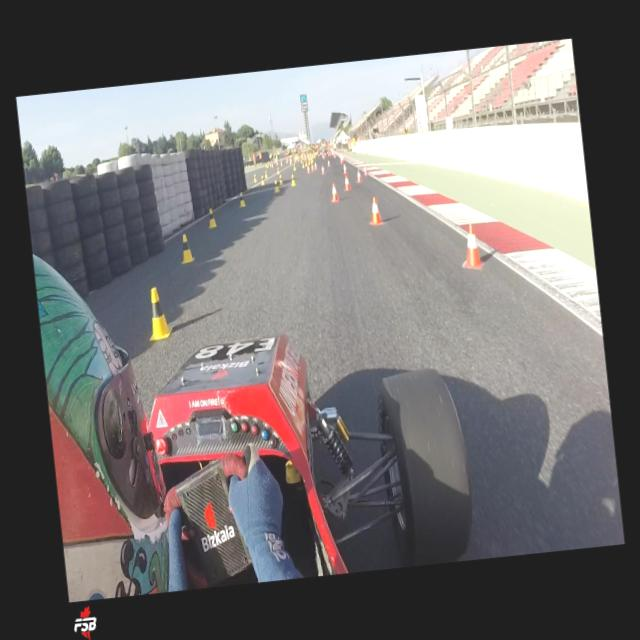orange_cone: (458, 222, 483, 270), (366, 196, 384, 225), (329, 182, 338, 202), (342, 173, 350, 191), (356, 168, 362, 182), (342, 162, 347, 175), (363, 164, 368, 176), (320, 164, 324, 174), (306, 164, 310, 173), (310, 164, 314, 172), (314, 160, 317, 170), (326, 159, 329, 167)
yellow_cone: (144, 286, 174, 340), (178, 232, 195, 264), (206, 208, 216, 228), (238, 191, 246, 207), (273, 179, 279, 192), (290, 173, 296, 186), (260, 173, 265, 186), (278, 174, 282, 185), (253, 173, 257, 183), (264, 170, 268, 179), (275, 166, 279, 175), (292, 162, 296, 170), (301, 161, 304, 168)
